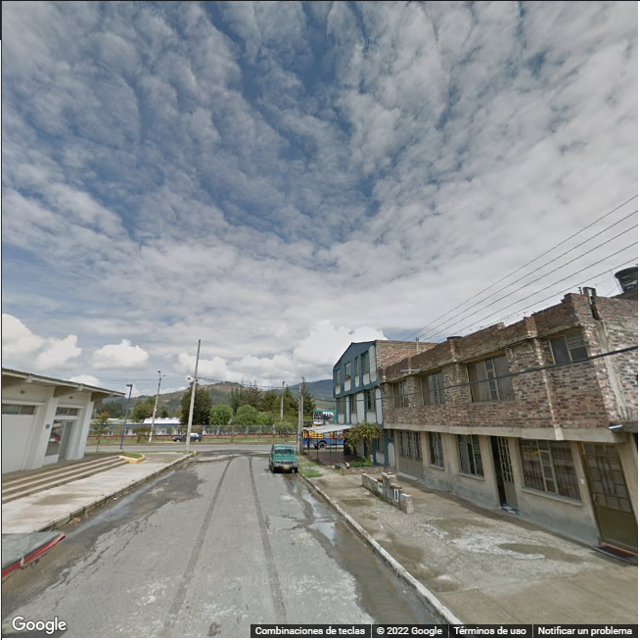D00: (49, 560, 104, 610), (61, 543, 111, 582), (120, 514, 150, 551)
